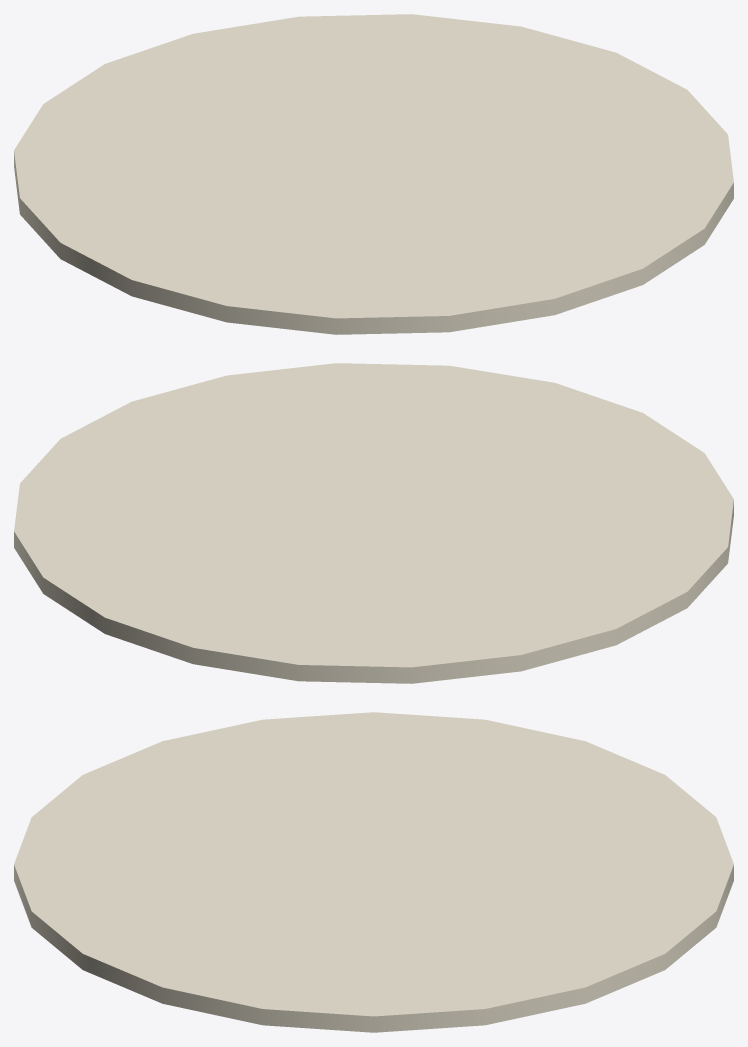
Rendered from fx_ripple_ring.glb.
The picture shows the model from 3 angles, top to bottom: view 1: azimuth 30°, elevation 25°; view 2: azimuth 150°, elevation 25°; view 3: azimuth 270°, elevation 25°; orthographic projection.
Visible parts, largest first — view 1: fx_ripple; view 2: fx_ripple; view 3: fx_ripple.
Part boxes in pixels (x1=…): fx_ripple: x1=14, y1=14, x2=733, y2=334; fx_ripple: x1=14, y1=363, x2=733, y2=683; fx_ripple: x1=14, y1=712, x2=733, y2=1032.
Size of the model in its own units: 0.6 by 0.015 by 0.6.
